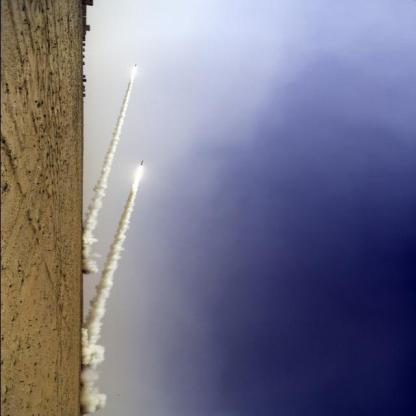MIL_TBM: (138, 160, 145, 168)
